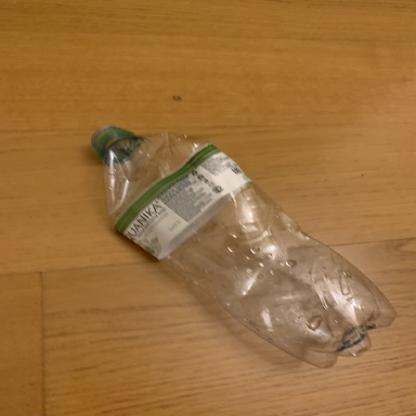trash: (87, 121, 400, 374)
